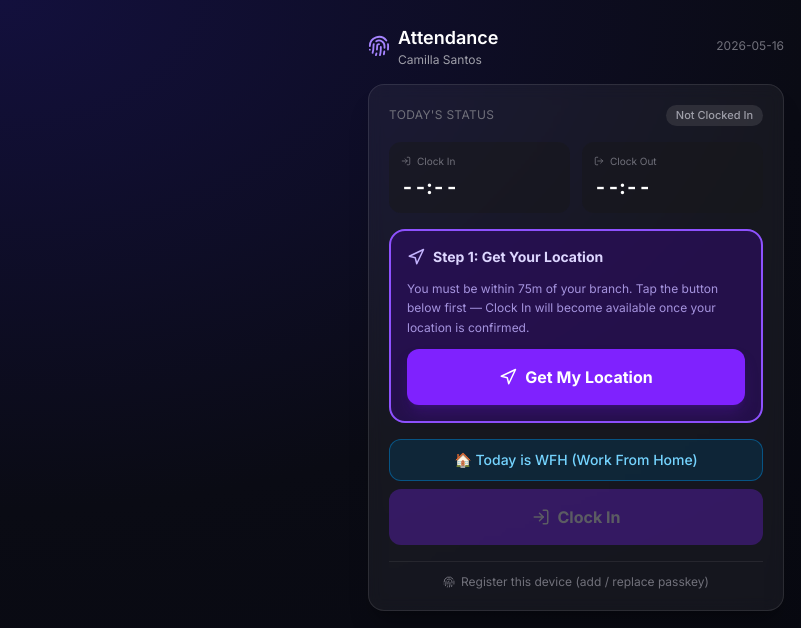
Scenario: AttendancePage — WFH Mode › shows WFH badge after successful declare
Click the button "🏠 Today is WFH (Work From Home)" at (576, 460), box [389,439,763,481]
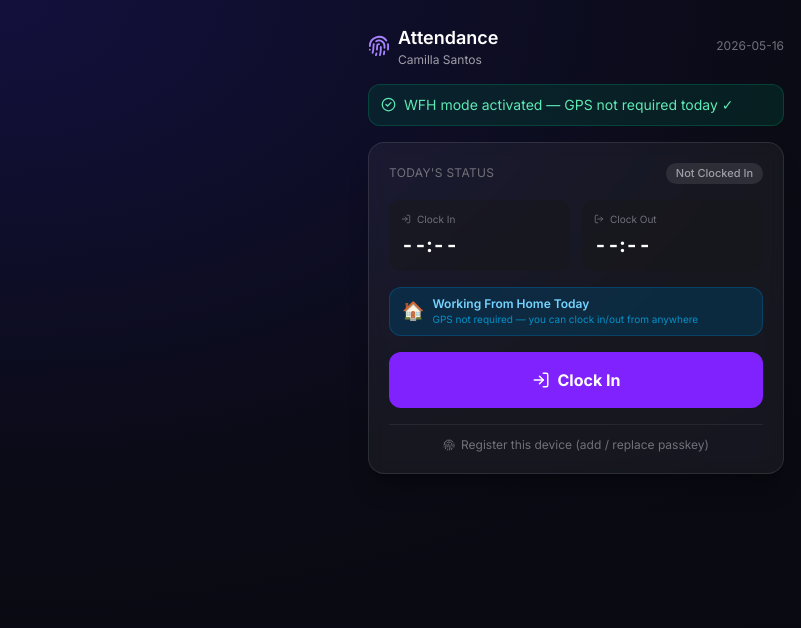
Result: the text "Working From Home Today" is shown at [432,296,589,310]
